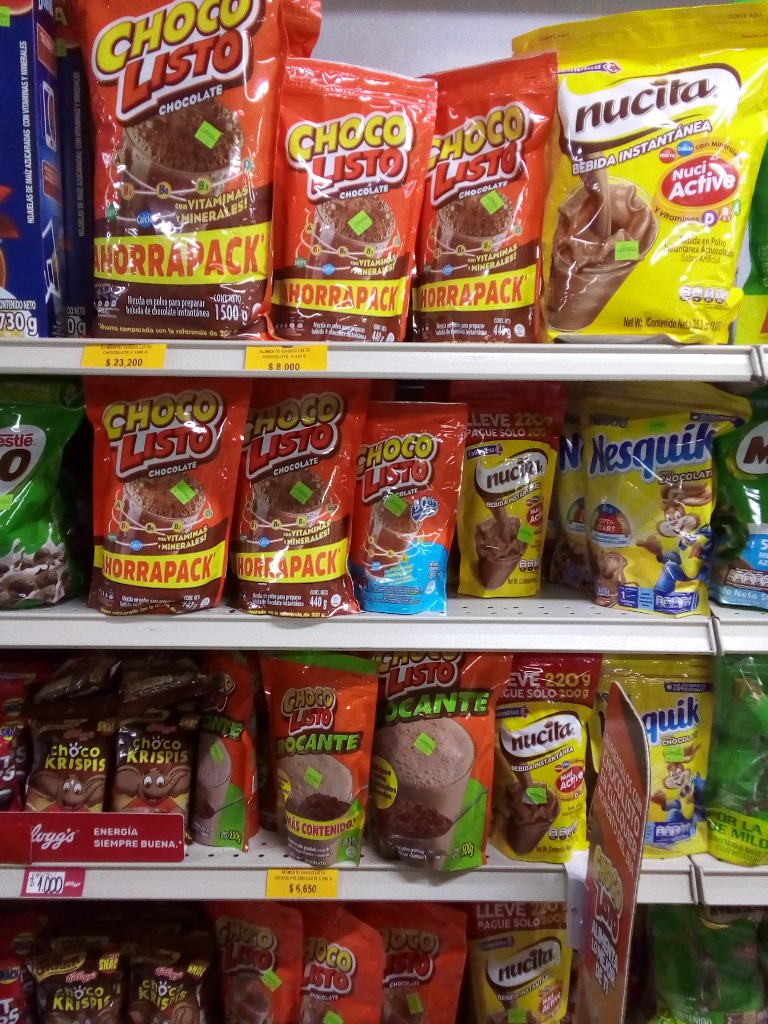COL0170102DYP25000: (192, 656, 263, 860)
COL0170102DYP50000: (369, 651, 505, 868)
COL0170103DYP1,500: (73, 1, 323, 347)
COL0170103DYP44000: (81, 378, 240, 608)
COL0170104DYP20000: (340, 400, 469, 618)
COL0170203DYP50000: (710, 666, 768, 855)
COL0170205DYP50000: (719, 392, 768, 615)
COL0170303DYP20000: (603, 656, 729, 866)
